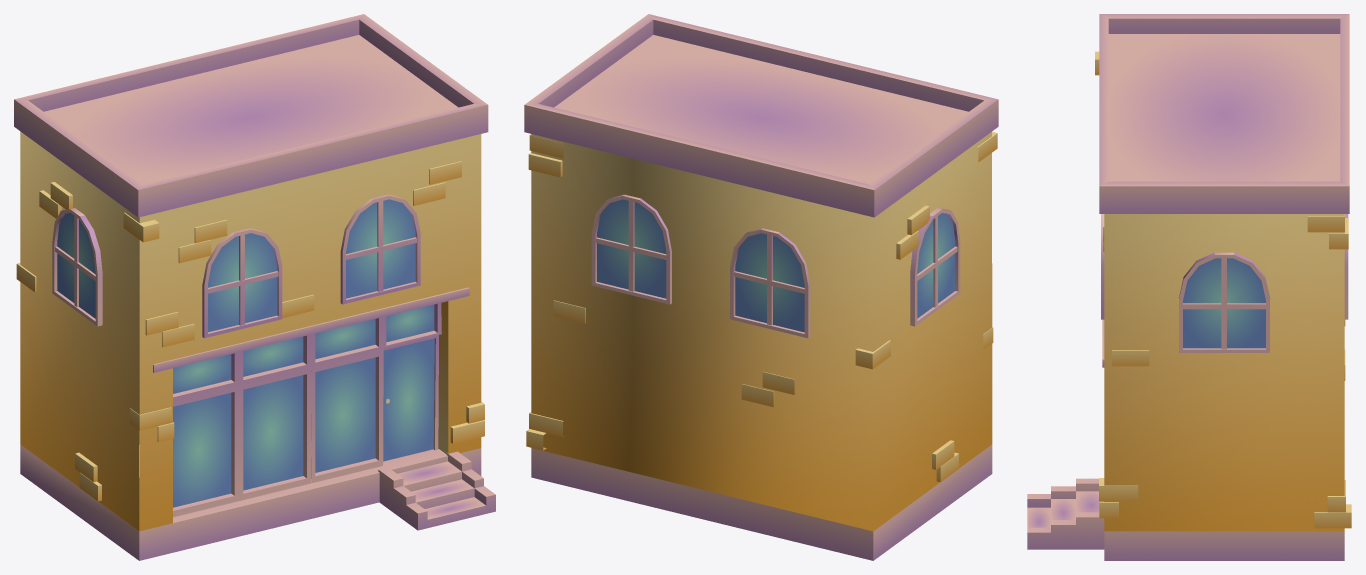
File: SM_2F_Half_02.fbx
The picture shows the model from 3 angles, left to right: view 1: azimuth 30°, elevation 25°; view 2: azimuth 150°, elevation 25°; view 3: azimuth 270°, elevation 25°; orthographic projection.
Parts seen in each view (by area): view 1: SM_2F_Half_02; view 2: SM_2F_Half_02; view 3: SM_2F_Half_02.
Part boxes in pixels (x1,y1,x2,y2): SM_2F_Half_02: [14, 14, 495, 560]; SM_2F_Half_02: [524, 14, 998, 560]; SM_2F_Half_02: [1027, 14, 1351, 560].
Size of the model in its own units: 7.91 by 6.25 by 8.03.
